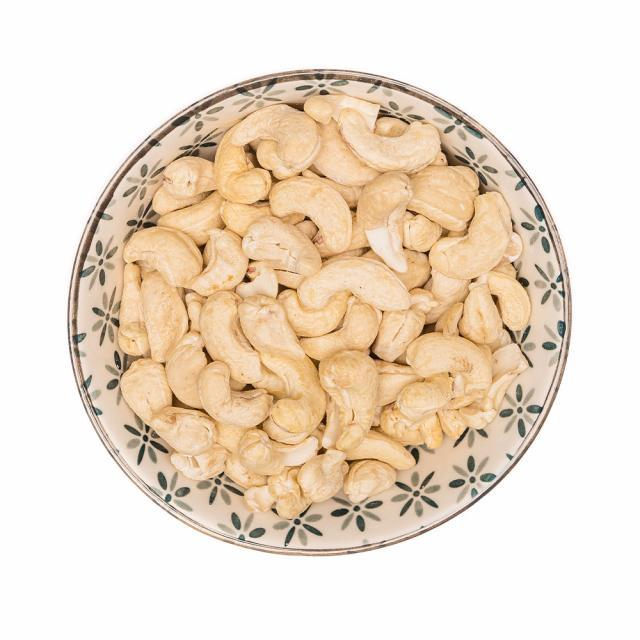Frutta secca: (119, 95, 549, 521)
